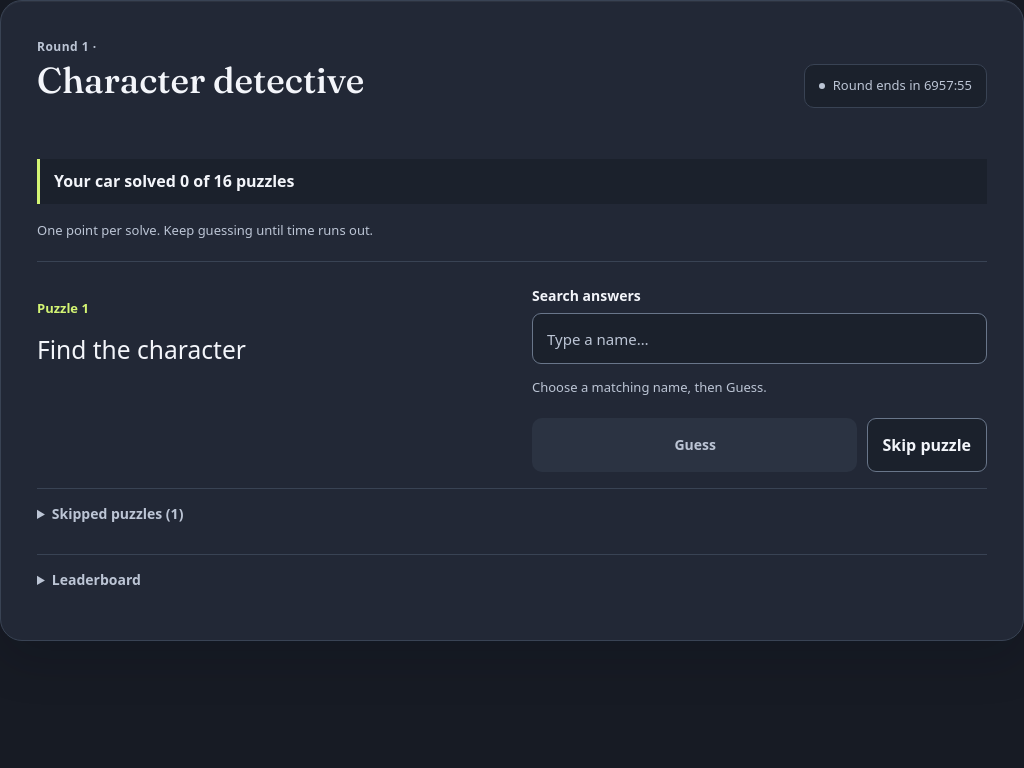
Scenario: shows answer suggestions only while searching for an unselected answer
expect the button "Naruto Uzumaki" is not shown: met
Step 1. Type "Naru" into the field labelled "Search answers" → (760, 338), box x1=532 y1=313 x2=987 y2=364
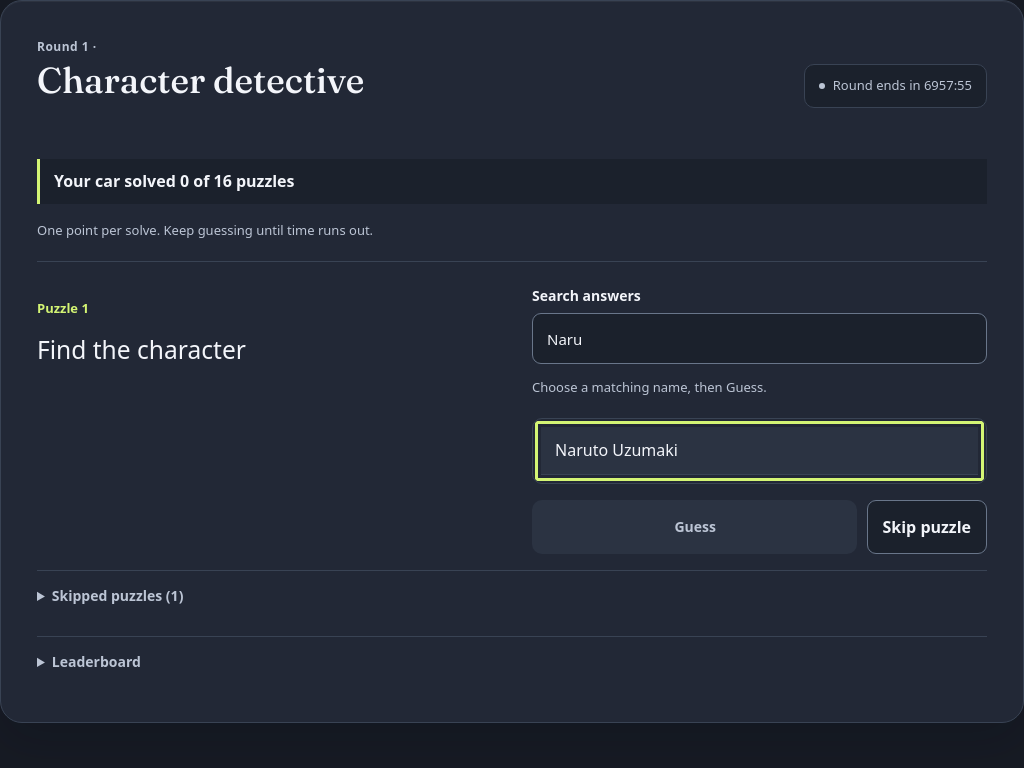
Step 2. Click the button "Naruto Uzumaki" → (616, 450), box x1=541 y1=427 x2=978 y2=475
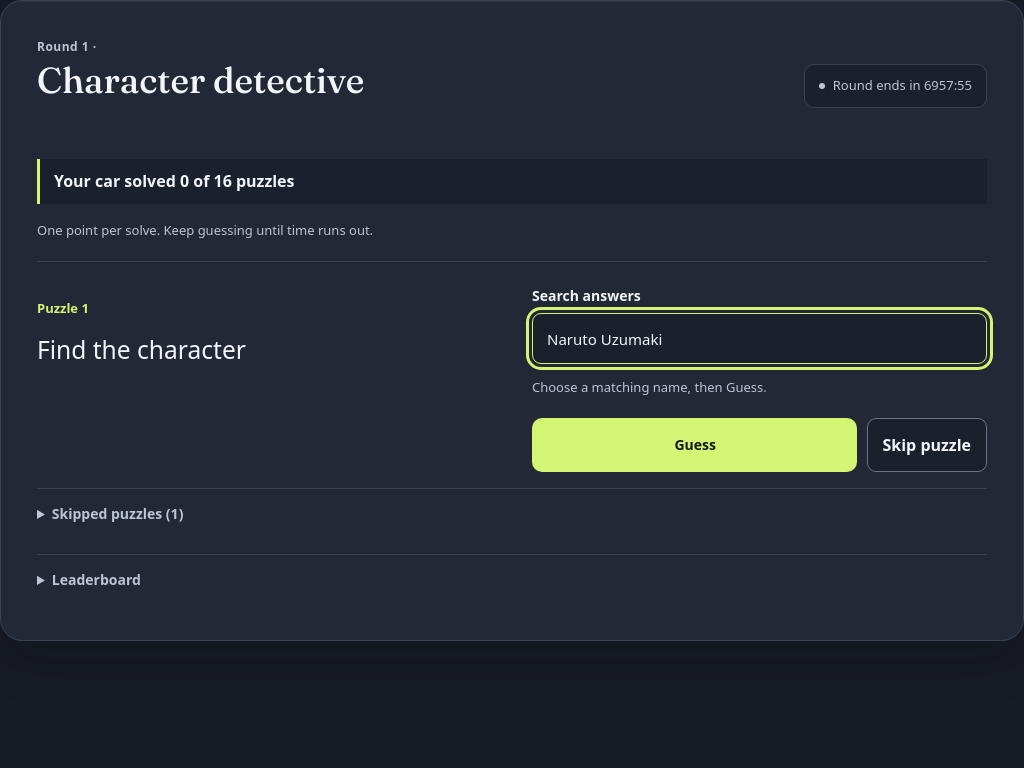
expect the button "Guess" is enabled: met, box x1=532 y1=418 x2=856 y2=472
